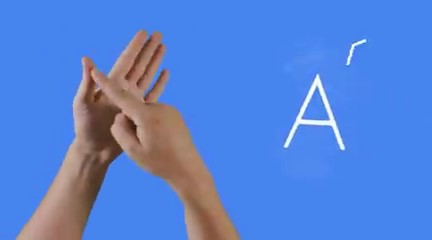A: (65, 25, 217, 188)
